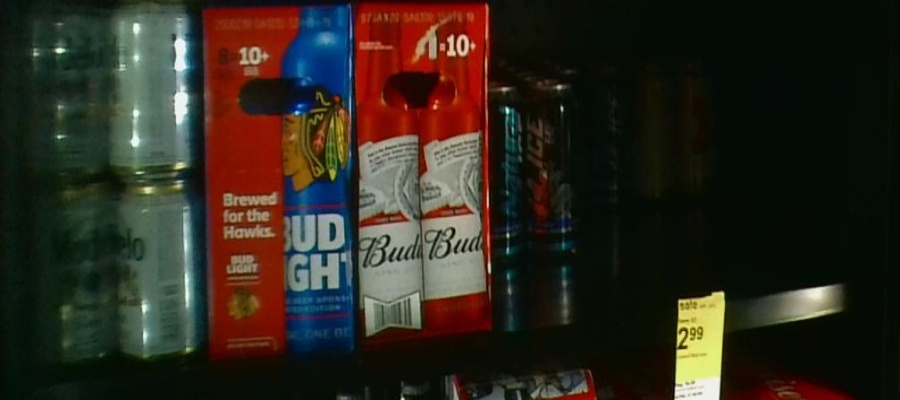bottle: (19, 1, 202, 366), (204, 6, 356, 348), (352, 6, 487, 331), (490, 85, 580, 255), (629, 59, 718, 203), (566, 64, 624, 203)
